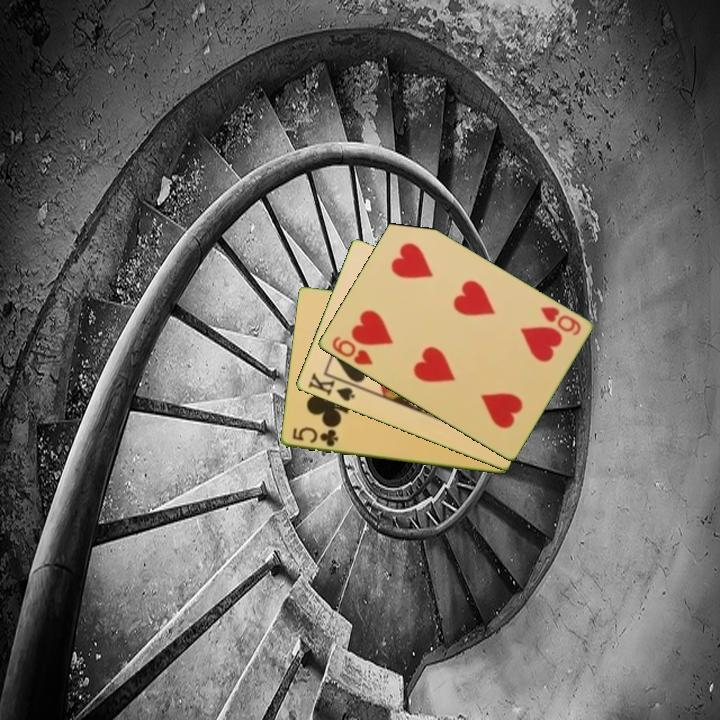5c: (289, 424, 341, 450)
6h: (536, 303, 584, 339), (328, 333, 376, 368)
Ks: (304, 369, 361, 404)
